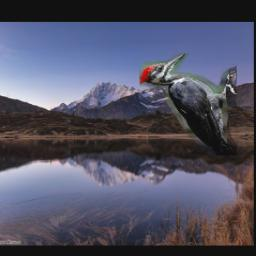Woodpecker: (140, 52, 238, 156)
